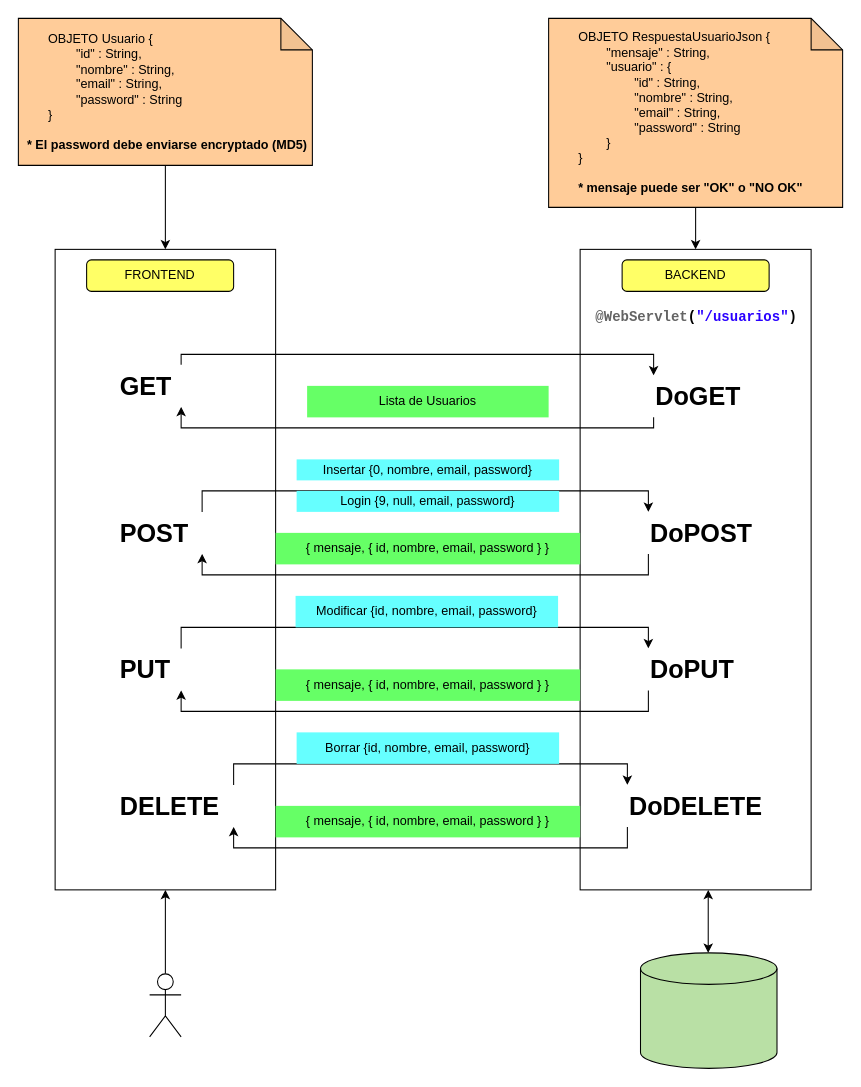
Some shapes in this 861 by 1087 pixel diagram are drawn without their labels. Here are the shapes that lost their labels. From the top down, the box of each, then its label:
(149, 973, 181, 1037): Cliente
(639, 952, 777, 1068): MySQL quizmatriz.usuarios
